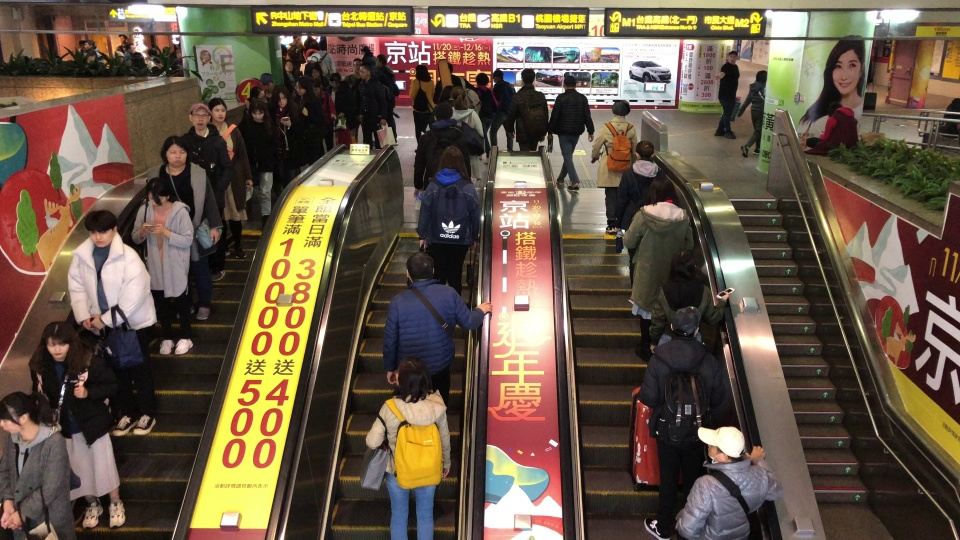person_head: (0, 392, 42, 446), (392, 357, 432, 404), (697, 425, 745, 464), (83, 210, 118, 248), (40, 322, 71, 363), (435, 147, 469, 182), (670, 305, 702, 341), (644, 176, 679, 207), (405, 250, 436, 284), (159, 135, 189, 168), (670, 249, 698, 280), (143, 178, 170, 207), (189, 102, 212, 130), (207, 97, 228, 123), (450, 86, 469, 110), (433, 102, 454, 123), (634, 140, 655, 160), (271, 84, 289, 107), (608, 100, 631, 117), (414, 63, 432, 82), (248, 86, 267, 103), (519, 68, 536, 87), (249, 103, 265, 123), (258, 72, 274, 91), (290, 80, 307, 96), (473, 72, 489, 88), (827, 101, 843, 116), (358, 63, 372, 80), (328, 73, 341, 91), (439, 60, 454, 75), (561, 77, 577, 91), (490, 69, 504, 84), (374, 52, 388, 66), (308, 83, 322, 95), (755, 69, 767, 83), (351, 59, 362, 73), (283, 60, 294, 73), (727, 51, 738, 64), (112, 51, 124, 62), (309, 67, 321, 78), (127, 40, 136, 52), (147, 47, 157, 57), (84, 40, 95, 49), (117, 34, 127, 43), (361, 46, 371, 55), (78, 40, 86, 49), (162, 45, 170, 54), (291, 33, 300, 41), (153, 57, 162, 64), (310, 42, 317, 48), (306, 32, 312, 38)
person_vbox: (66, 209, 159, 437), (26, 320, 126, 531), (638, 305, 726, 540), (381, 250, 490, 412), (364, 355, 452, 540), (623, 176, 695, 360), (130, 173, 198, 357), (158, 134, 223, 321), (0, 391, 79, 540), (672, 424, 768, 540), (613, 136, 678, 305), (177, 101, 232, 283), (416, 144, 478, 297), (649, 248, 726, 354), (207, 97, 254, 259), (413, 102, 485, 198), (589, 99, 637, 238), (546, 76, 595, 191), (245, 103, 283, 220), (448, 85, 487, 180), (271, 85, 305, 188), (509, 67, 549, 152), (290, 80, 325, 165), (736, 69, 769, 158), (431, 59, 481, 117), (358, 63, 390, 152), (372, 55, 401, 147), (471, 71, 499, 165), (807, 101, 857, 152), (408, 61, 436, 151), (712, 51, 740, 141), (335, 59, 364, 143), (489, 68, 516, 154), (327, 74, 359, 145), (238, 85, 269, 136), (308, 84, 337, 130), (258, 72, 277, 112), (360, 45, 377, 78), (127, 39, 145, 68), (84, 40, 105, 63), (308, 66, 328, 88), (282, 59, 300, 81), (304, 41, 319, 63), (287, 32, 303, 50), (304, 32, 320, 50), (114, 34, 128, 53), (152, 57, 164, 71)
